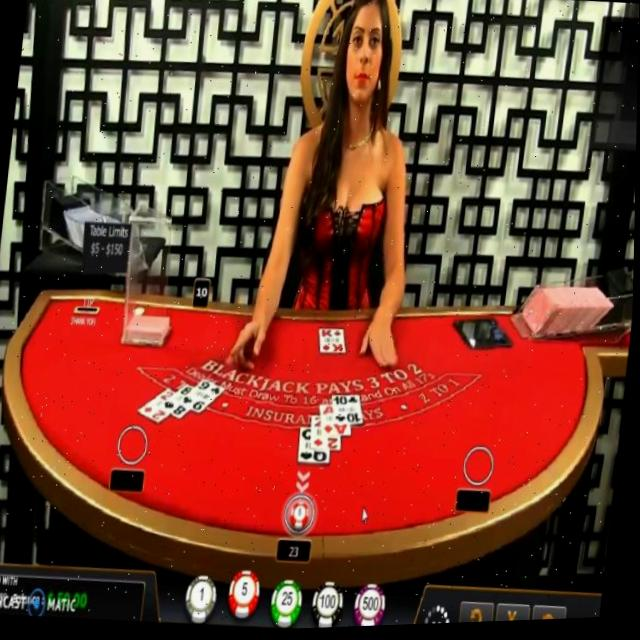Card-10: (333, 397, 364, 425)
Card-2: (139, 388, 177, 424), (313, 415, 342, 451)
Card-8: (163, 384, 196, 419)
Card-9: (183, 380, 226, 415)
Card-A: (322, 406, 352, 437)
Card-K: (321, 330, 346, 355)
Card-Q: (299, 427, 331, 466)
